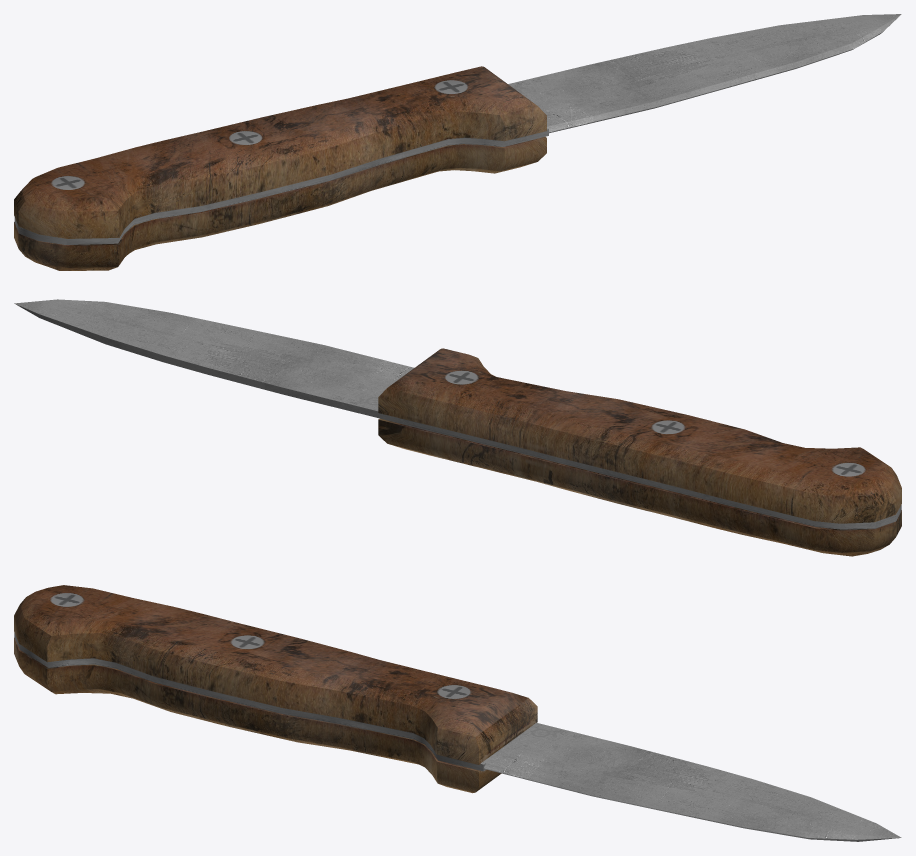
The model's file is knife.fbx.
3 renders of one model, top to bottom at view 1: azimuth 30°, elevation 25°; view 2: azimuth 150°, elevation 25°; view 3: azimuth 330°, elevation 25°, orthographic.
Visible parts, largest first — view 1: Low_Bottom, Low_Knife; view 2: Low_Bottom, Low_Knife; view 3: Low_Bottom, Low_Knife.
Boxes of the visible parts, bbox=[...] form: Low_Bottom: bbox=[14, 66, 546, 270]; Low_Knife: bbox=[14, 14, 901, 244]; Low_Bottom: bbox=[378, 348, 901, 556]; Low_Knife: bbox=[14, 299, 901, 529]; Low_Bottom: bbox=[14, 585, 537, 793]; Low_Knife: bbox=[14, 632, 901, 841].
Size of the model in its own units: 200 by 15.6 by 24.95.
1 material, 1 textured.
